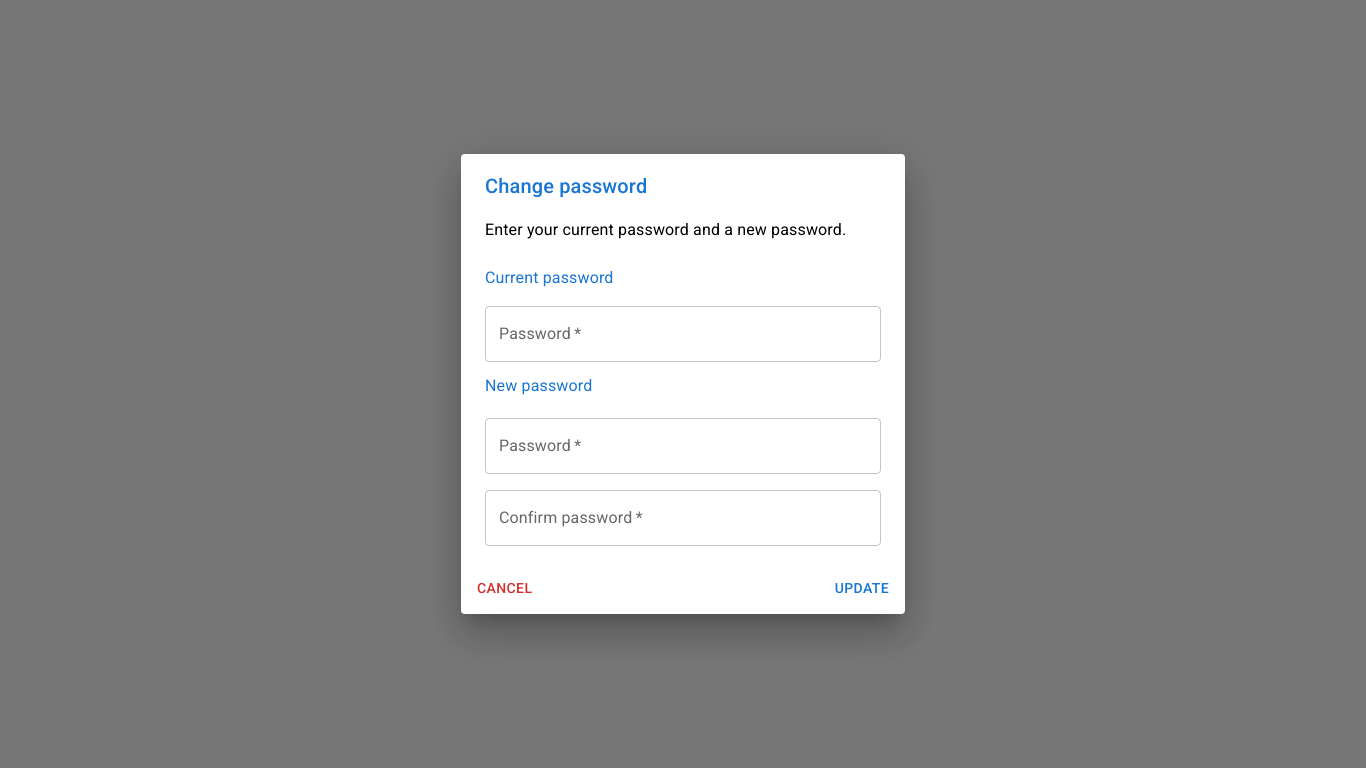
Test case: ChangePasswordDialog › should show an error message when new password and confirmation don't match
Type "OldPassword1234" into the 1st password field labelled "Password *". click: (683, 334)
box: [485, 306, 881, 362]
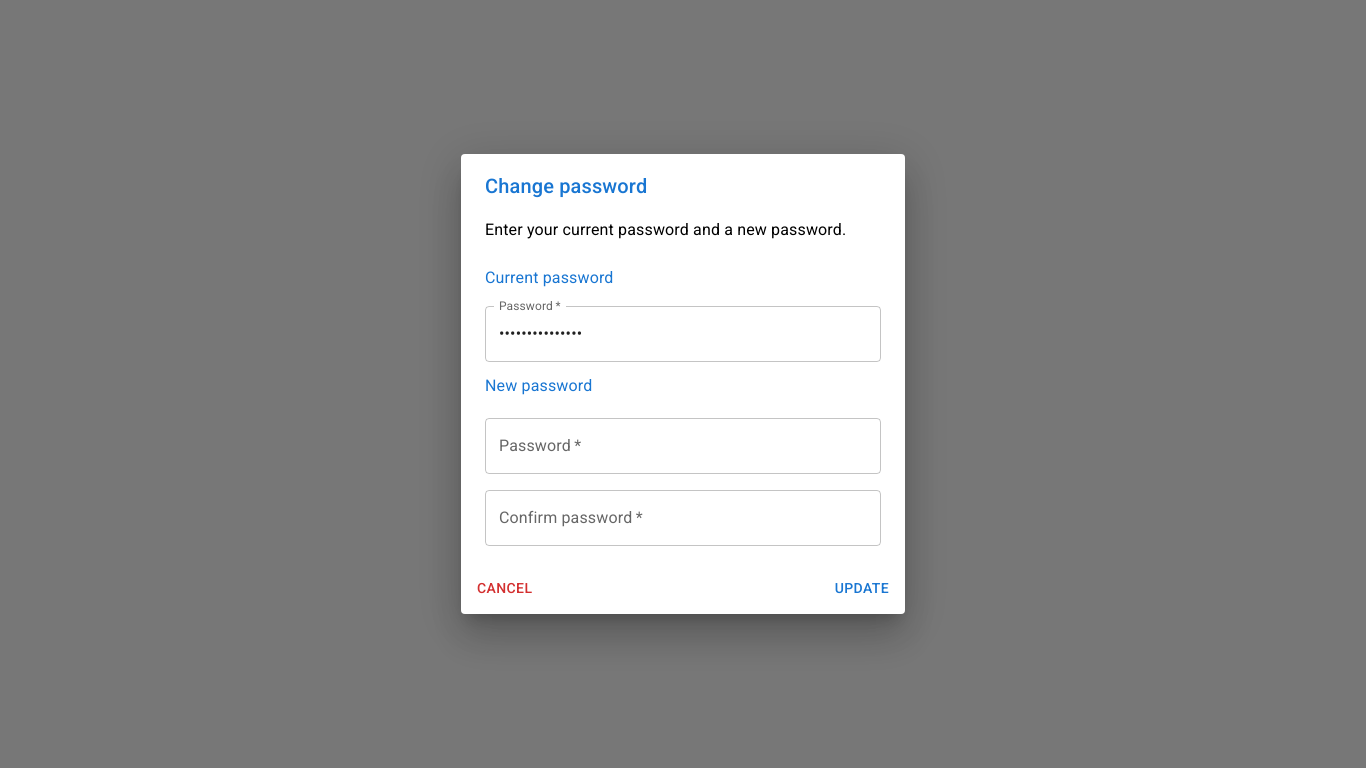
Type "NewPassword1234" into the 2nd password field labelled "Password *". click: (683, 446)
box: [485, 418, 881, 474]
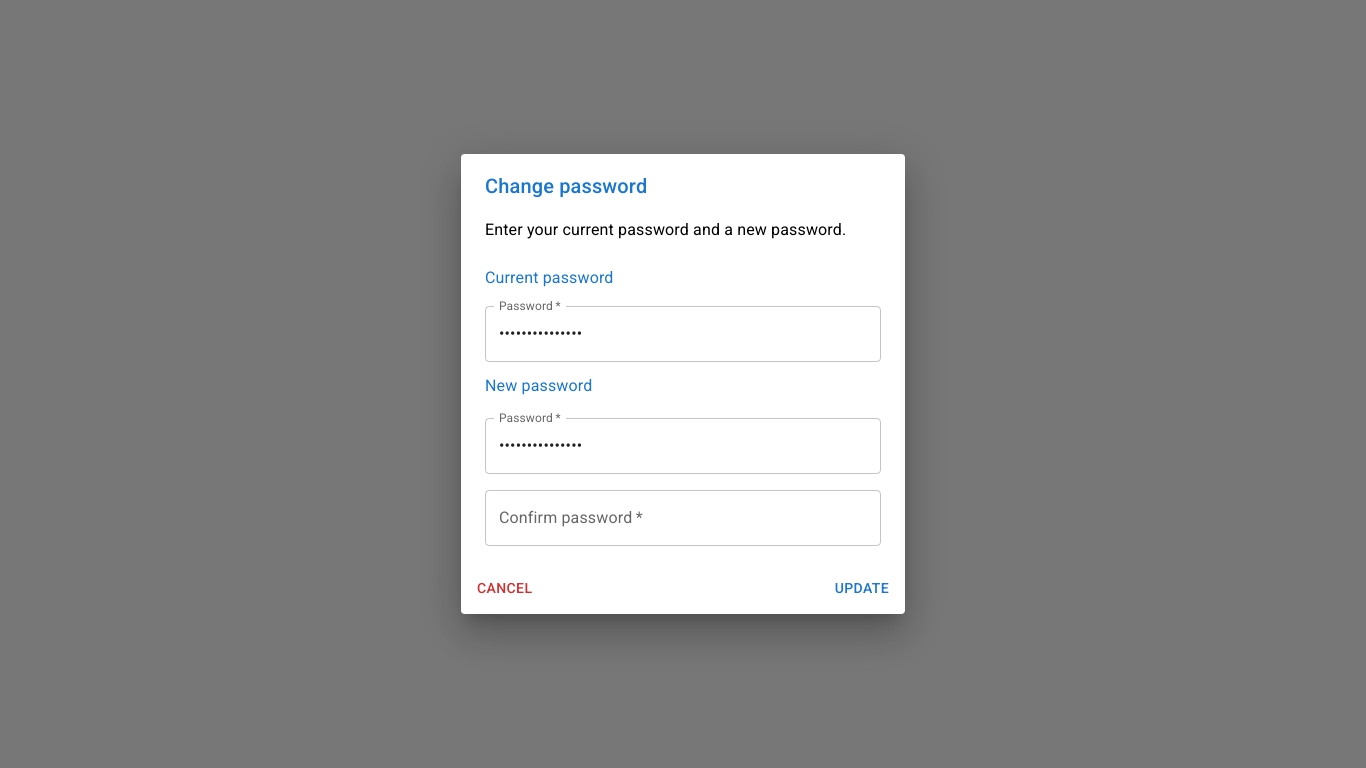
Type "NewPassword123" into the password field labelled "Confirm password *". click: (683, 518)
box: [485, 490, 881, 546]
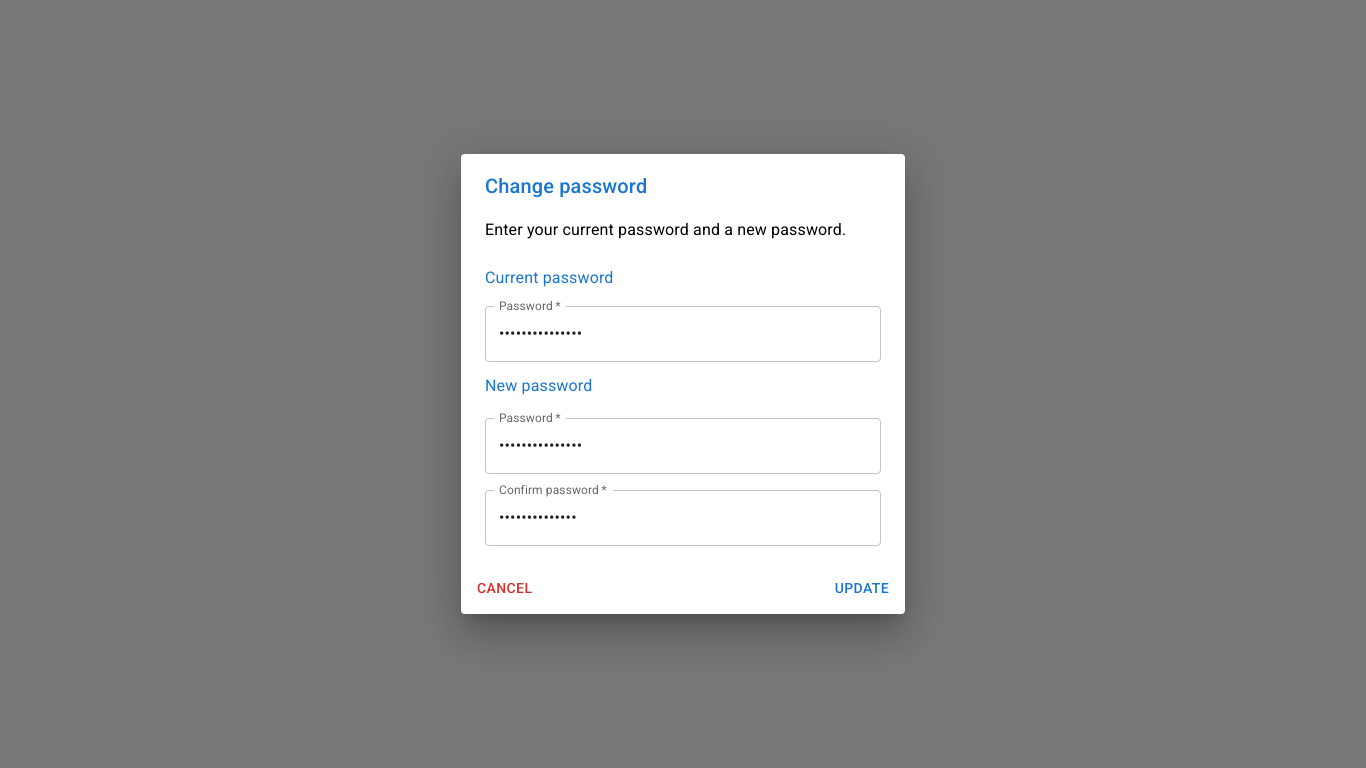
Click the button "Update". click: (862, 588)
box: [827, 570, 897, 606]
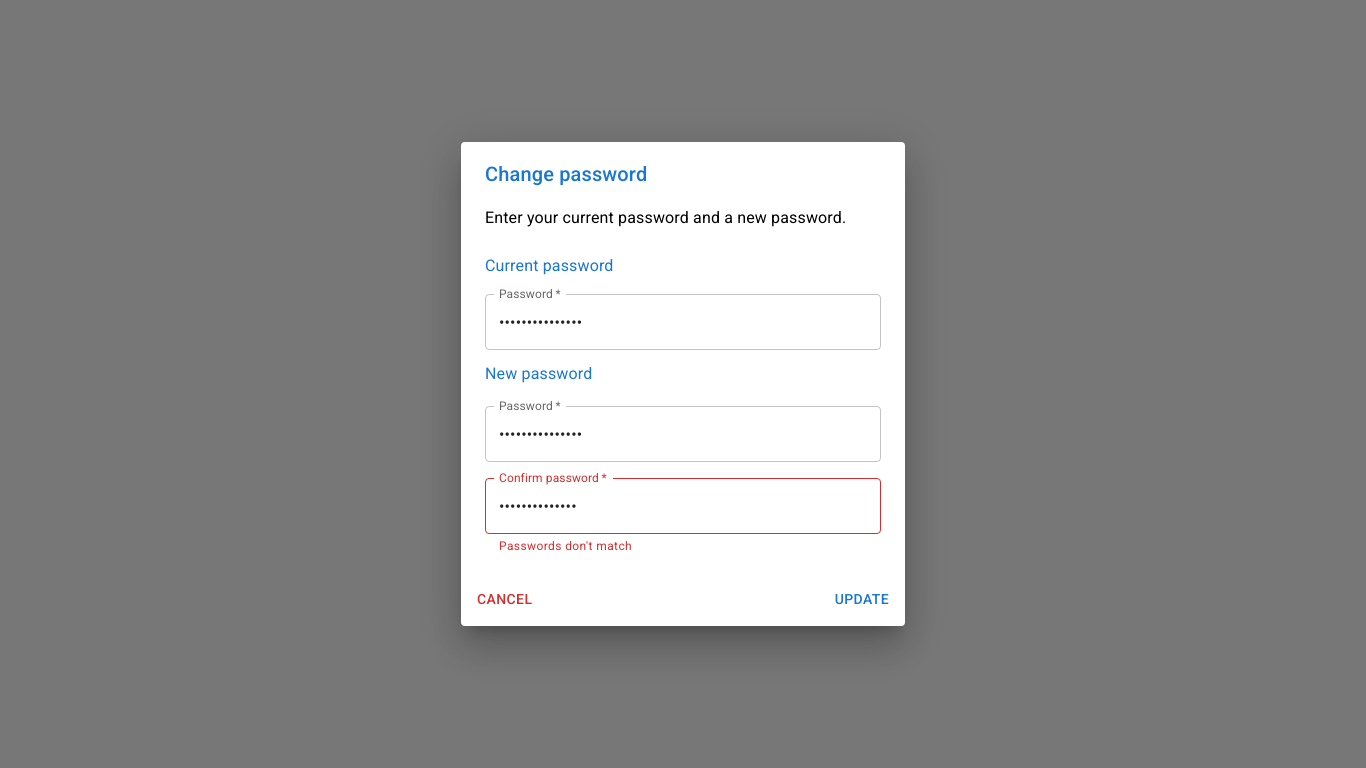
Result: the text "Passwords don't match" is shown at [499, 539, 632, 553]
